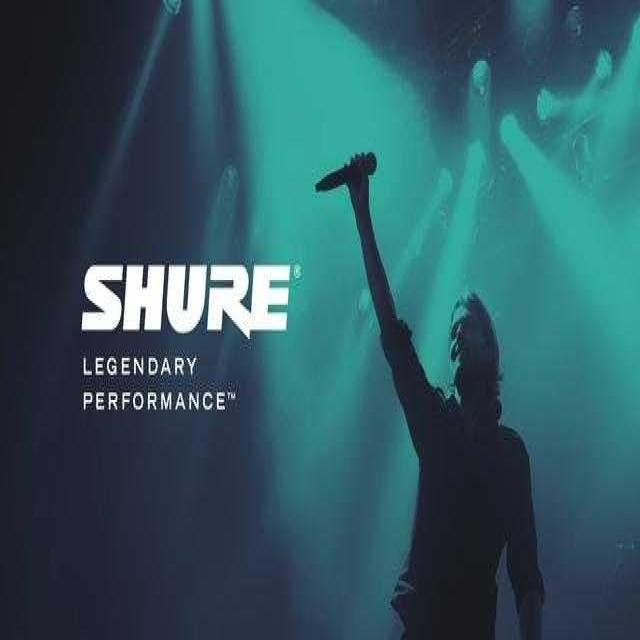microphone: (314, 150, 378, 196)
